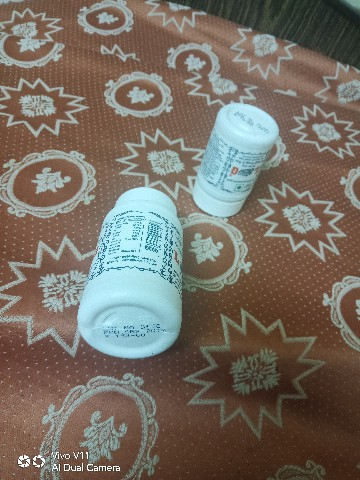lgasafoetidapowder large: (78, 181, 182, 376)
lgasafoetidapowder small: (191, 96, 299, 237)
